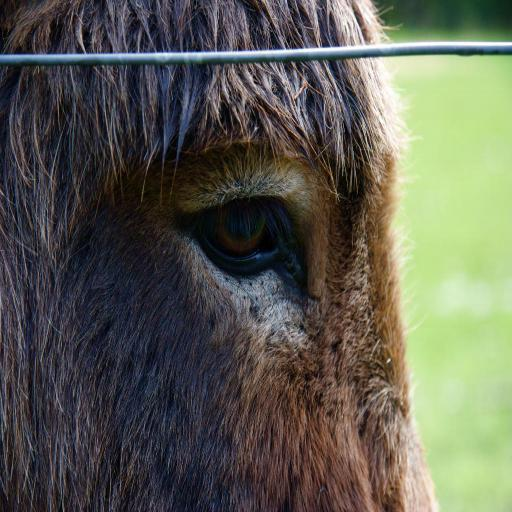horse: (0, 0, 439, 512)
